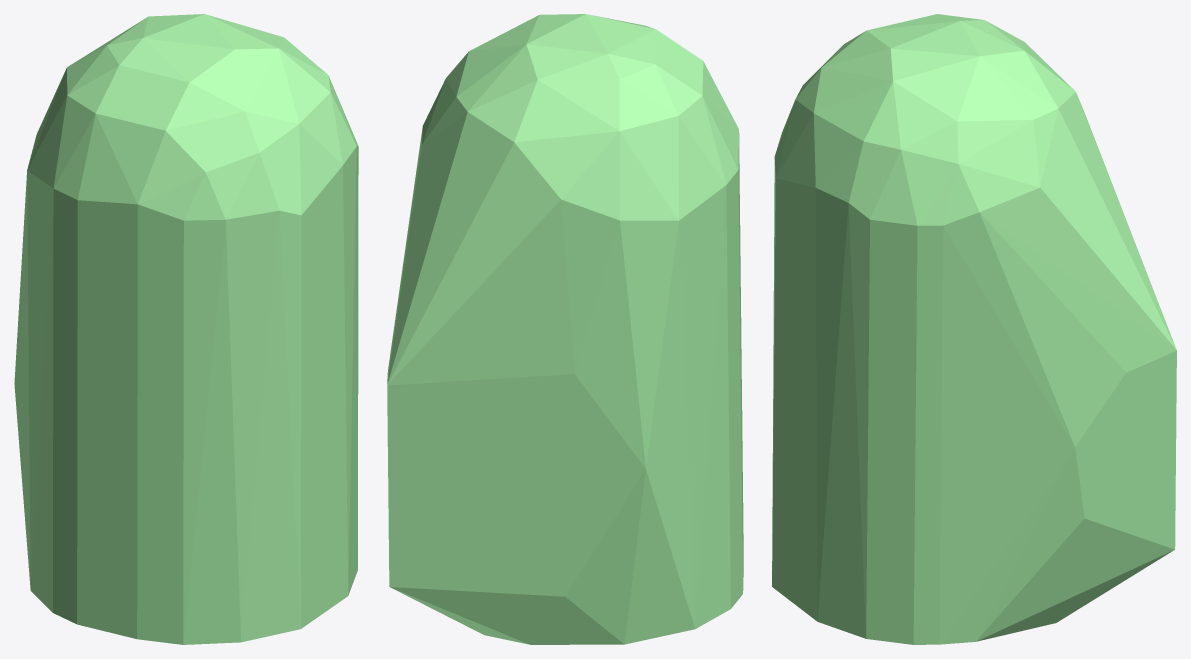
File: dvkr_robot_L_link3_respondable_coll_3.dae
3 views of the same model, side by side, from view 1: azimuth 30°, elevation 25°; view 2: azimuth 150°, elevation 25°; view 3: azimuth 270°, elevation 25° (orthographic).
Visible parts, largest first — view 1: Node_0000023514CD8970; view 2: Node_0000023514CD8970; view 3: Node_0000023514CD8970.
Boxes of the visible parts, box(x1,y1,x2,y2) form: Node_0000023514CD8970: box(14, 14, 358, 644); Node_0000023514CD8970: box(387, 14, 743, 644); Node_0000023514CD8970: box(772, 14, 1176, 644).
Size of the model in its own units: 0.1304 by 0.2339 by 0.1596.
